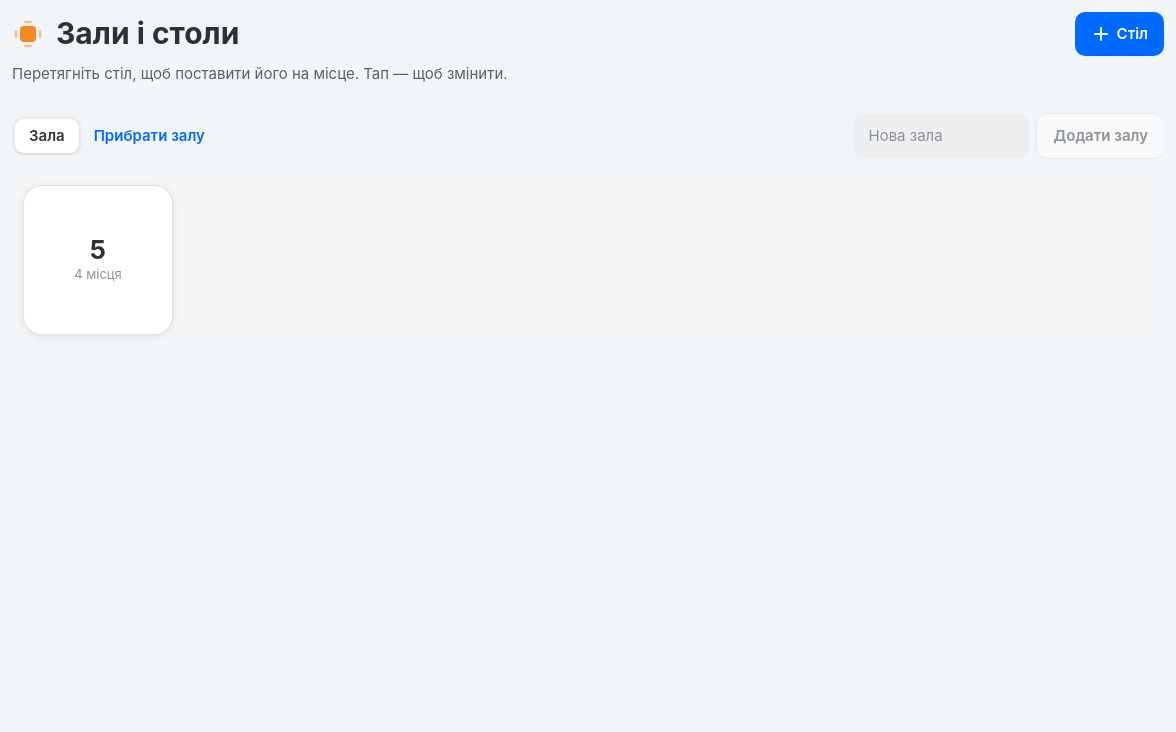
Scenario: HallEditorPage › opens the form on a tap that never became a drag
Click the button with test id "editor-table-11" at (98, 260), box [24,186,172,334]
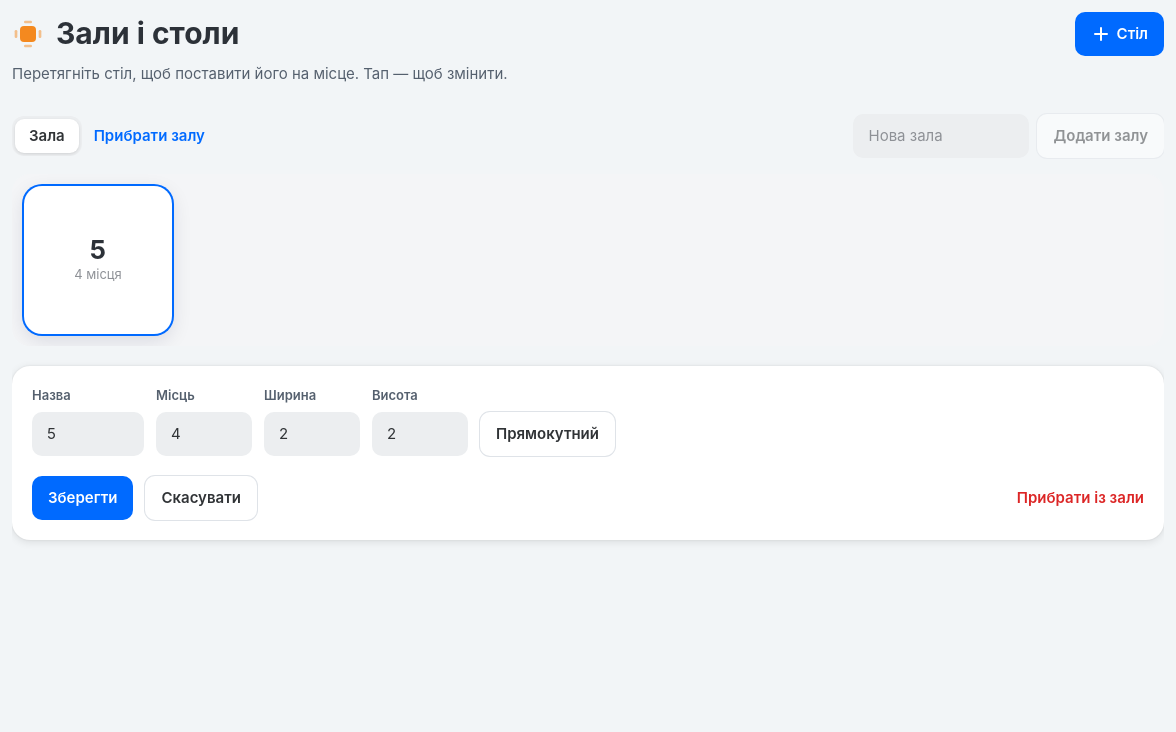
Expected: the element with test id "editor-form" is shown, [12,366,1164,540]
Expected: the field with test id "editor-form-name" holds "5", [32,412,144,456]
